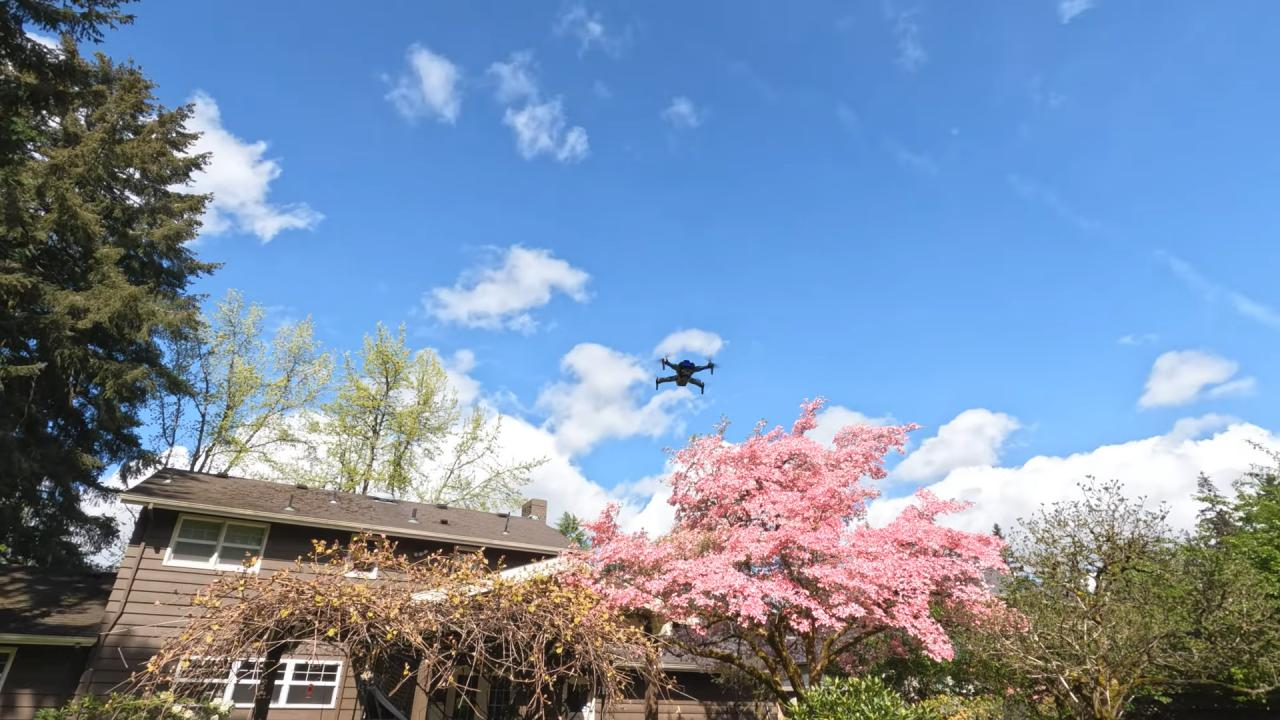Drone: (641, 346, 729, 404)
